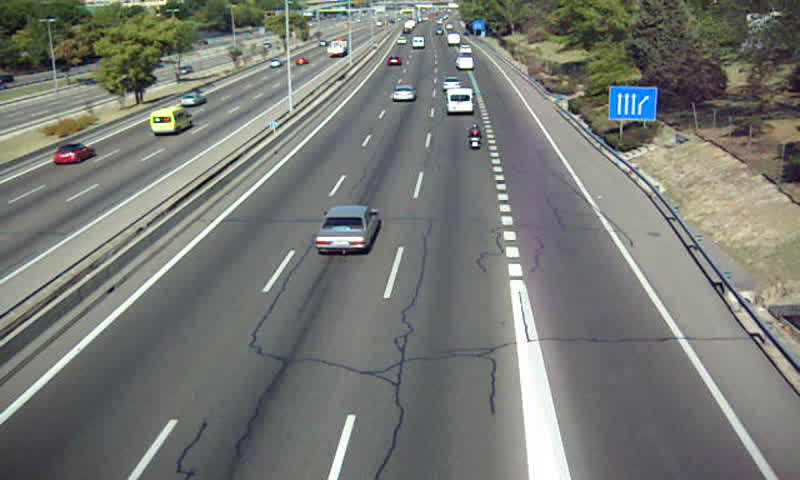car: (316, 204, 381, 253), (392, 84, 416, 102), (442, 76, 461, 90)
motorcycle: (468, 124, 482, 151)
van: (446, 88, 474, 115), (455, 57, 475, 71)
